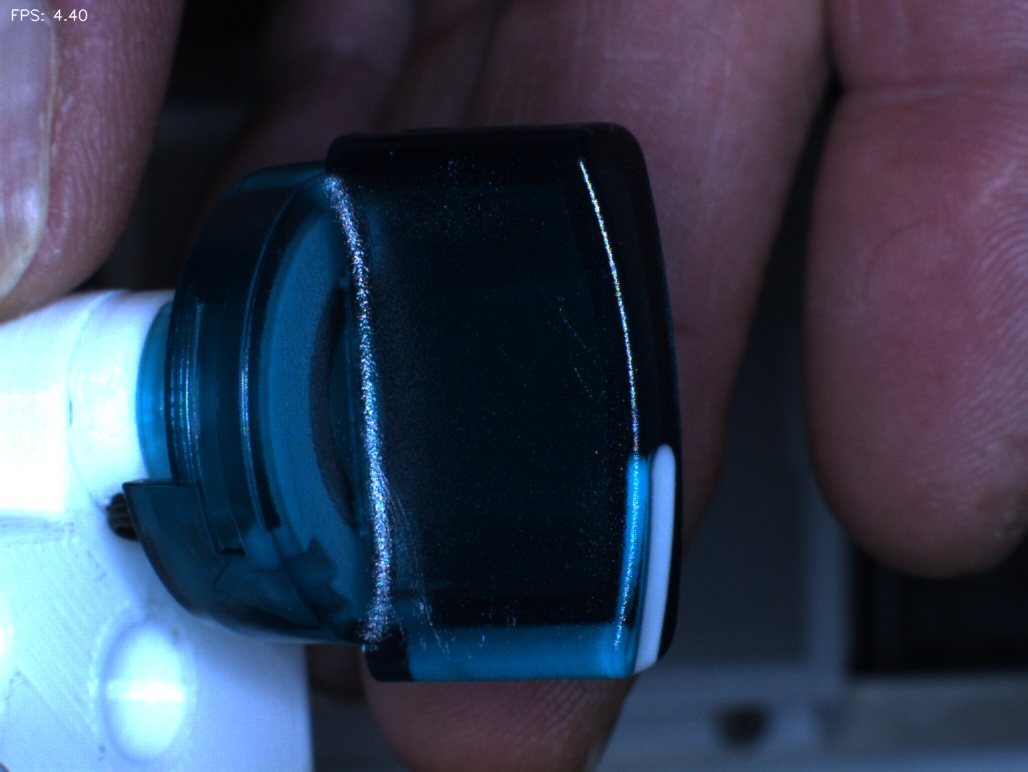Givrage: (385, 462, 448, 657)
